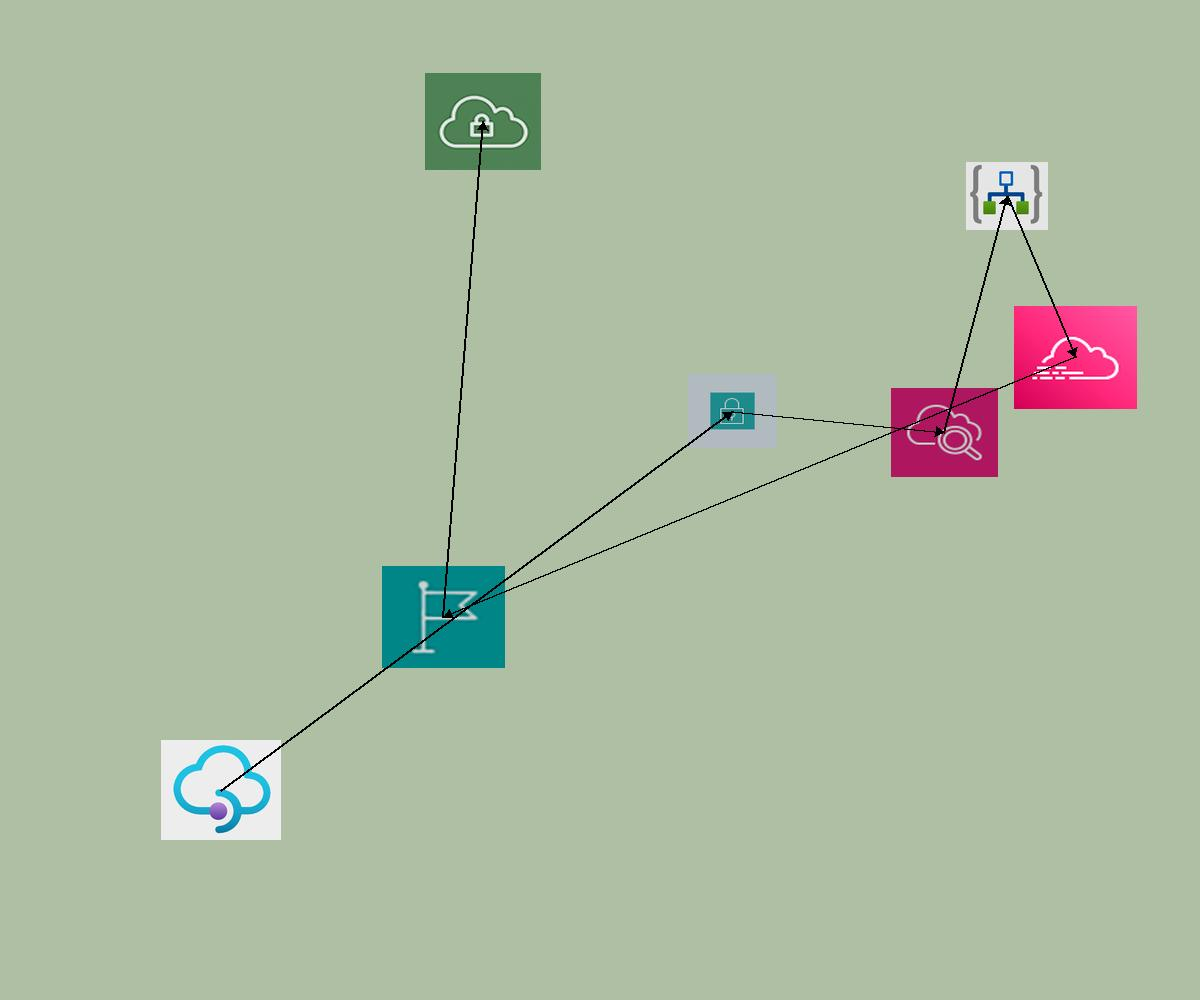AWS-CloudTrail: (1014, 306, 1137, 409)
AWS-CloudWatch: (891, 388, 998, 477)
AWS-Private-subnet: (688, 374, 777, 448)
AWS-Private_vpc: (425, 73, 541, 170)
AWS-Region: (382, 566, 505, 668)
Azure_api_gateway: (161, 740, 281, 840)
Azure_integration-204-Logic-Apps: (966, 162, 1048, 230)
